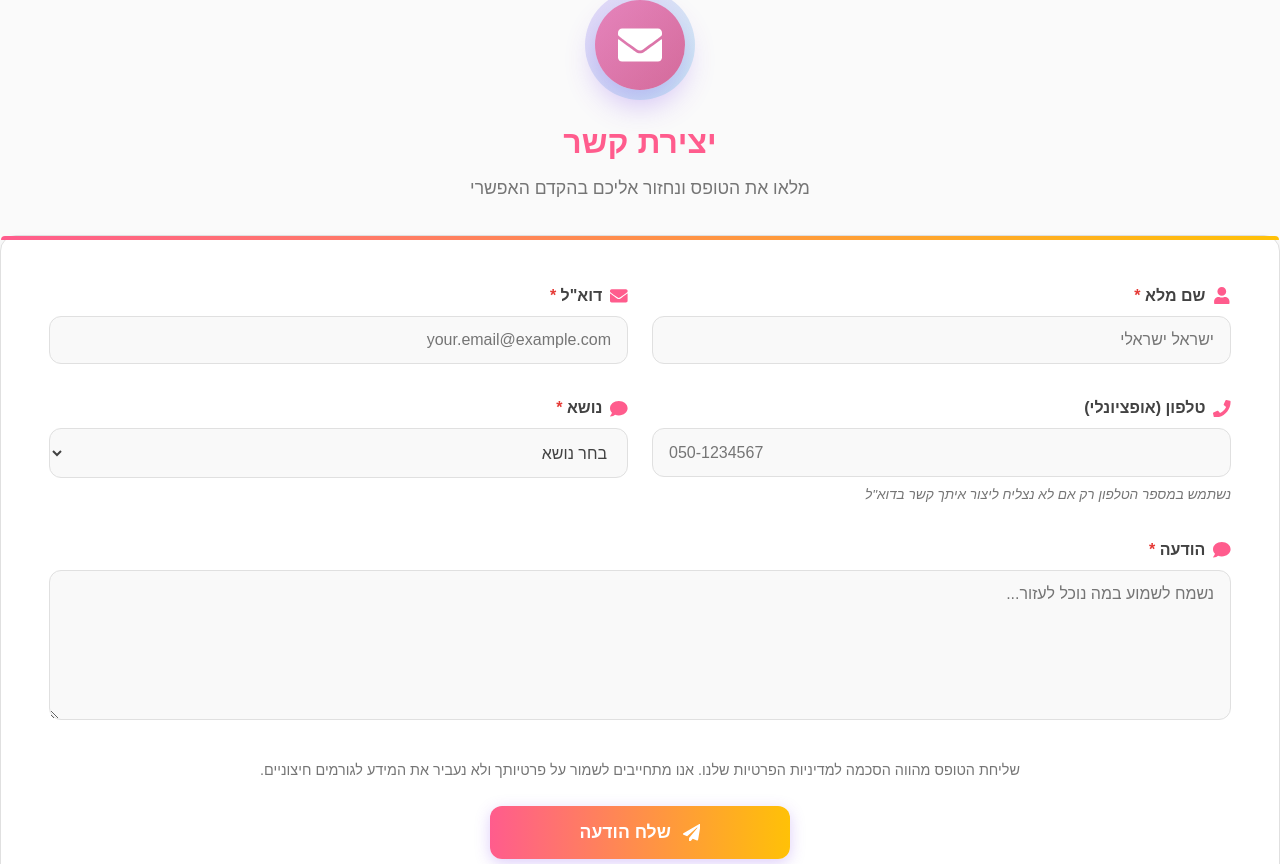
ContactForm Component › מציג שגיאות כאשר מנסים לשלוח טופס ריק
Click the button "שלח הודעה": (640, 832) [490,806,790,859]
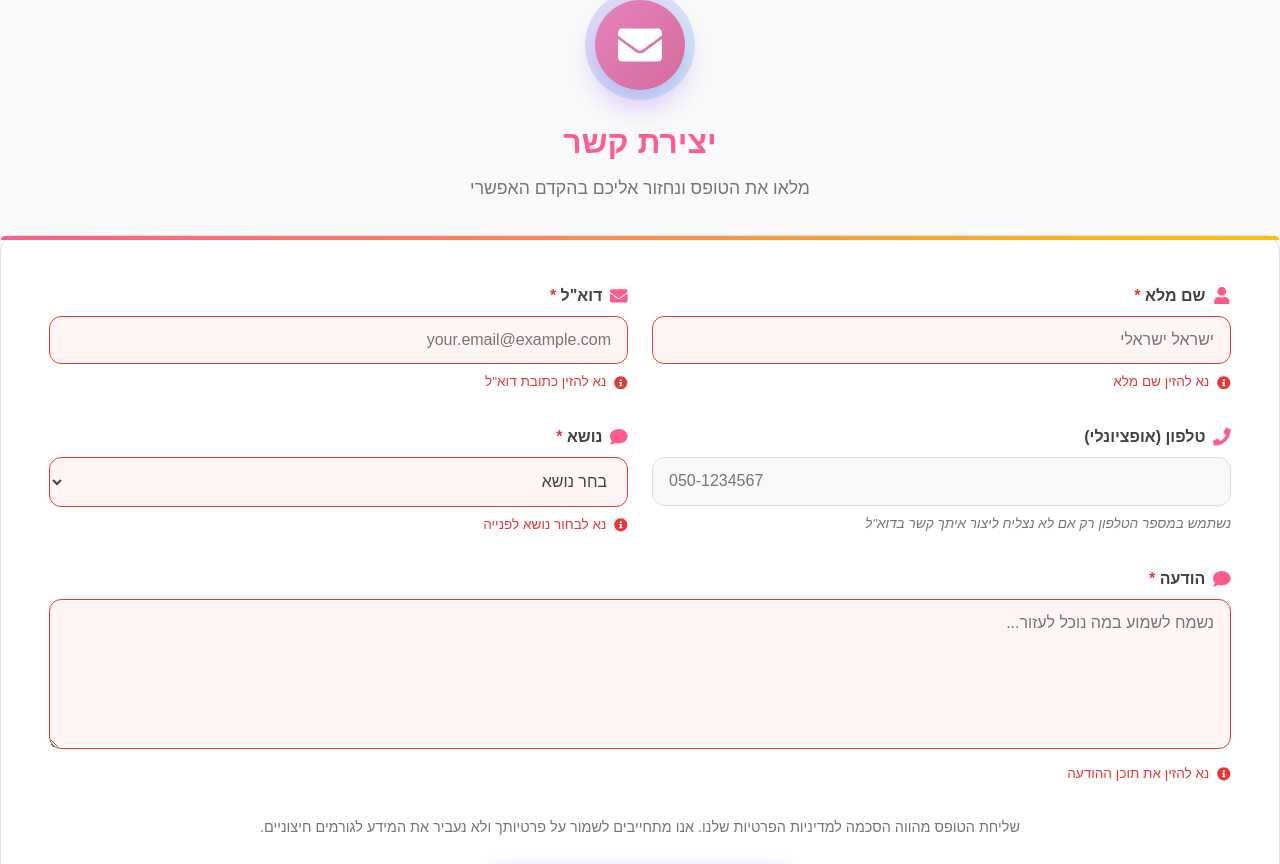
Now the text "נא להזין שם מלא" is shown, box [1113,374,1231,389]
Now the text "נא להזין כתובת דוא\"ל" is shown, box [485,374,628,389]
Now the text "נא לבחור נושא לפנייה" is shown, box [483,516,628,532]
